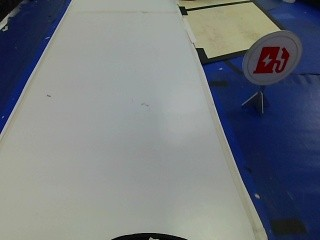battery: (237, 31, 301, 88)
